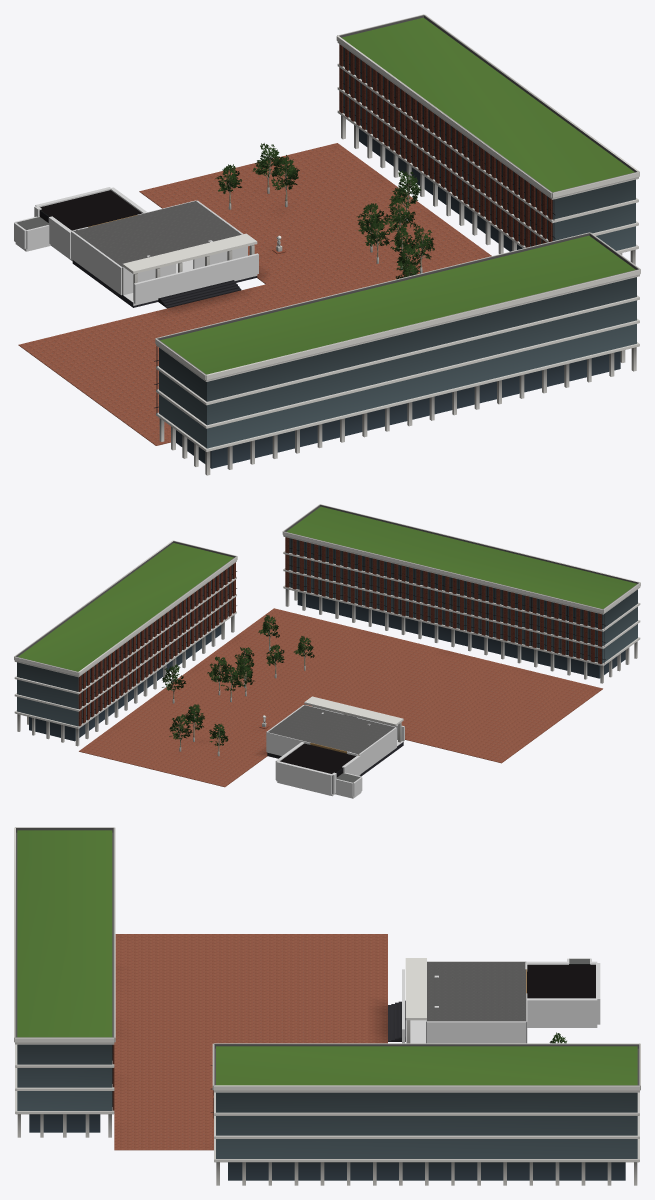
Rendered from zone_03_lobby.glb.
The picture shows the model from 3 angles, top to bottom: view 1: azimuth 30°, elevation 25°; view 2: azimuth 150°, elevation 25°; view 3: azimuth 270°, elevation 25°; orthographic projection. The views are drawn at different scales.
Visible parts, largest first — view 1: ENV_ngoai_troi, ENV_san_gach, ENV_sanh, COL_bien_chieu_nghi, ENV_hat_lua, COL_tuong_tay, ENV_cay_lo_01, ENV_cay_lo_11, COL_hl_tuong_tay_nam, ENV_cay_lo_04; view 2: ENV_ngoai_troi, ENV_san_gach, ENV_sanh, ENV_hat_lua, COL_hl_tuong_bac, COL_tuong_tay, COL_tuong_bac_phai; view 3: ENV_ngoai_troi, ENV_san_gach, ENV_sanh, ENV_hat_lua, COL_vach_kinh_dong, COL_hl_tuong_dong.
Boxes of the visible parts, x1,y1,x2,y2 form: ENV_ngoai_troi: (122,14,640,475); ENV_san_gach: (18,143,491,445); ENV_sanh: (72,201,257,307); COL_bien_chieu_nghi: (133,253,258,303); ENV_hat_lua: (16,190,141,245); COL_tuong_tay: (71,231,122,295); ENV_cay_lo_01: (380,194,416,235); ENV_cay_lo_11: (271,155,299,201); COL_hl_tuong_tay_nam: (48,216,71,258); ENV_cay_lo_04: (390,170,421,212); ENV_ngoai_troi: (14,504,640,746); ENV_san_gach: (79,608,602,787); ENV_sanh: (267,705,403,776); ENV_hat_lua: (280,743,360,793); COL_hl_tuong_bac: (276,761,332,794); COL_tuong_tay: (359,727,396,773); COL_tuong_bac_phai: (267,732,310,755); ENV_ngoai_troi: (14,827,640,1185); ENV_san_gach: (114,934,387,1150); ENV_sanh: (426,962,526,1042); ENV_hat_lua: (527,959,595,998); COL_vach_kinh_dong: (427,1021,526,1043); COL_hl_tuong_dong: (527,998,597,1025).
Bounding box in the file's own units: 86.58 × 16.58 × 88.3.
Materials: 9 (5 with a texture image).
